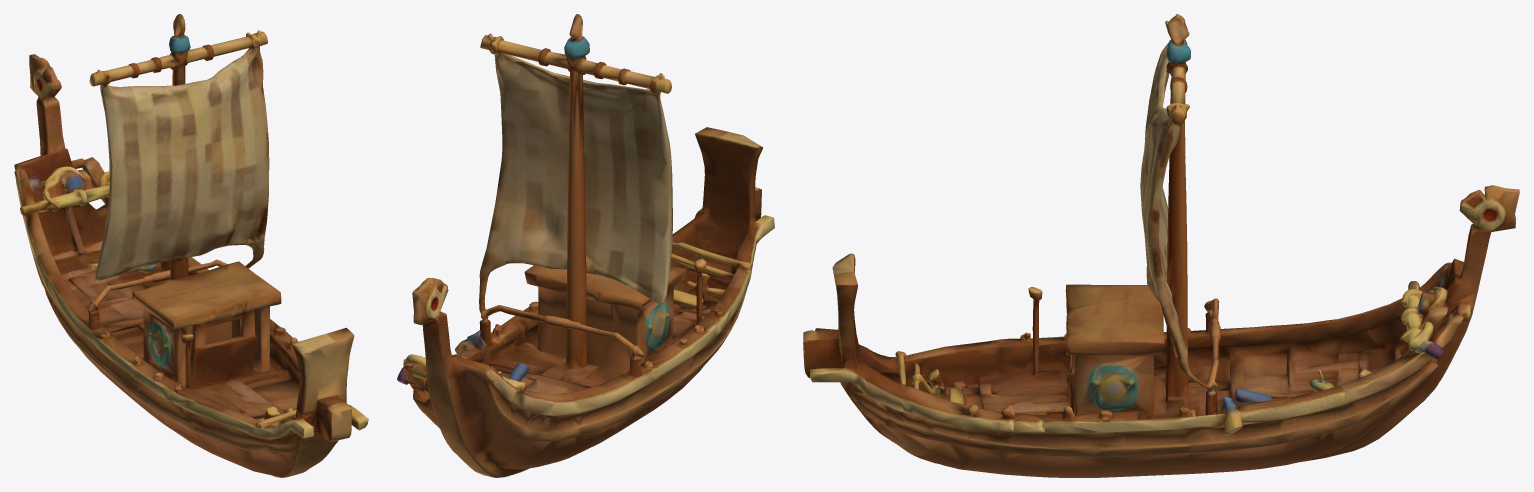
The model's file is nileboat.glb.
3 views of the same model, side by side, from view 1: azimuth 30°, elevation 25°; view 2: azimuth 150°, elevation 25°; view 3: azimuth 270°, elevation 25° (orthographic). The views are drawn at different scales.
Visible parts, largest first — view 1: tripo_node_bb46692a-c7ae-4fb5-b94b-5a90ae76716d; view 2: tripo_node_bb46692a-c7ae-4fb5-b94b-5a90ae76716d; view 3: tripo_node_bb46692a-c7ae-4fb5-b94b-5a90ae76716d.
Part boxes in pixels (x1,y1,x2,y2): tripo_node_bb46692a-c7ae-4fb5-b94b-5a90ae76716d: (14, 14, 368, 477); tripo_node_bb46692a-c7ae-4fb5-b94b-5a90ae76716d: (397, 14, 774, 477); tripo_node_bb46692a-c7ae-4fb5-b94b-5a90ae76716d: (803, 14, 1519, 477).
Bounding box in the file's own units: 0.3253 × 0.6974 × 1.
Materials: 1 (1 with a texture image).
